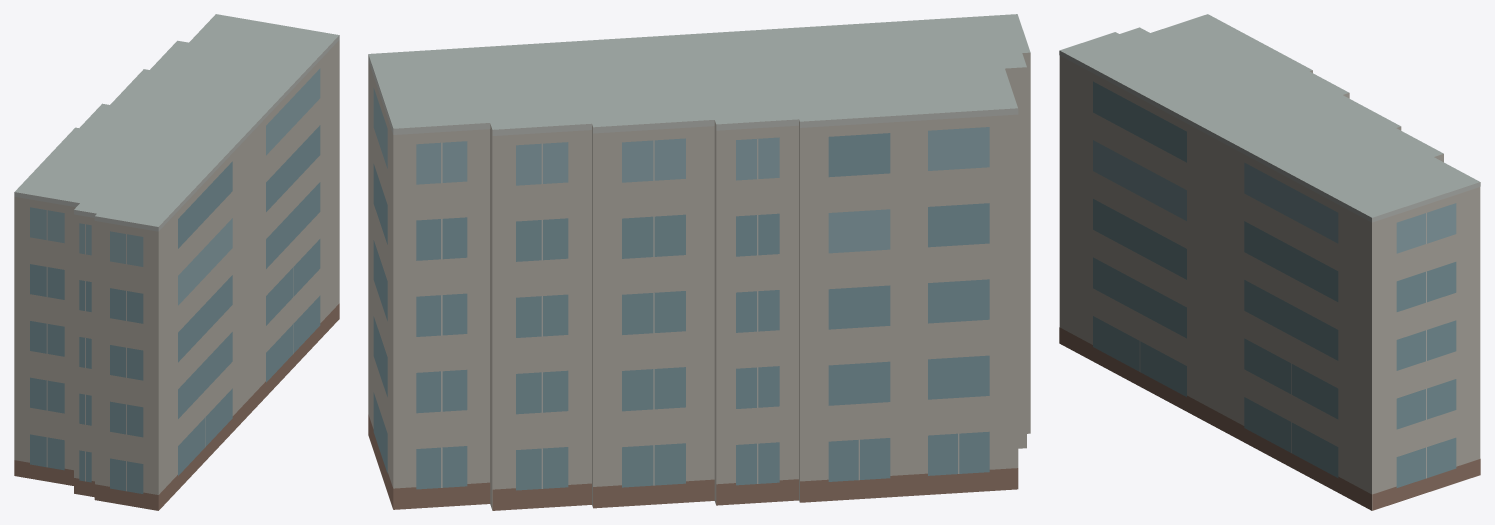
The model's file is survey-upis-32990824.glb.
3 views of the same model, side by side, from view 1: azimuth 30°, elevation 25°; view 2: azimuth 150°, elevation 25°; view 3: azimuth 270°, elevation 25° (orthographic). The views are drawn at different scales.
Parts seen in each view (by area): view 1: survey-upis-32990824.tmp; view 2: survey-upis-32990824.tmp; view 3: survey-upis-32990824.tmp.
Part boxes in pixels (x1,y1,x2,y2): survey-upis-32990824.tmp: (14,14,339,510); survey-upis-32990824.tmp: (368,14,1030,510); survey-upis-32990824.tmp: (1059,14,1480,510).
Bounding box in the file's own units: 22.23 × 14.9 × 19.41.
